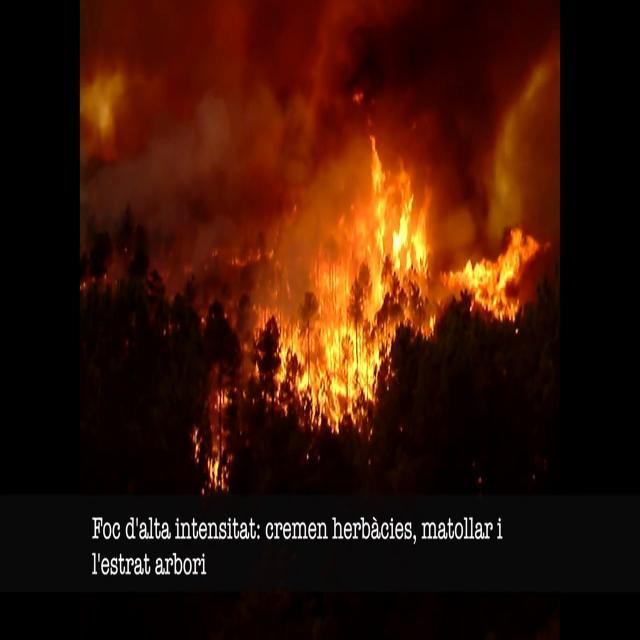Fire: (270, 138, 438, 435), (455, 215, 539, 325)
Smoke: (82, 0, 354, 311), (352, 0, 560, 231)
